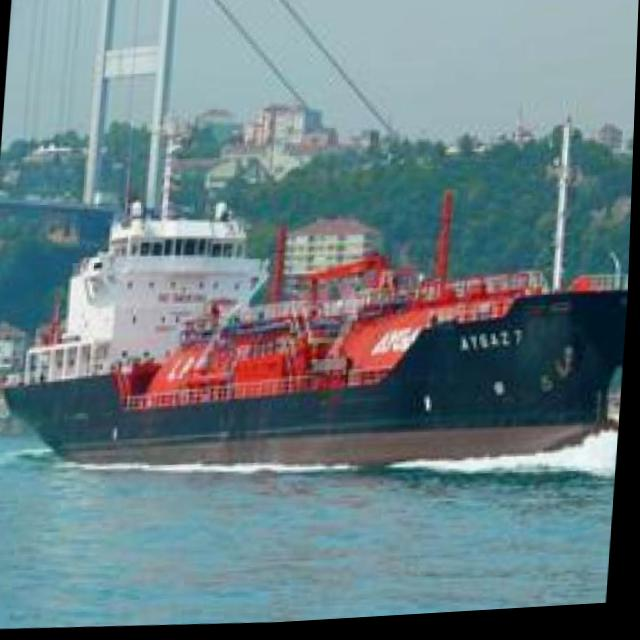ship2: (4, 126, 631, 474)
